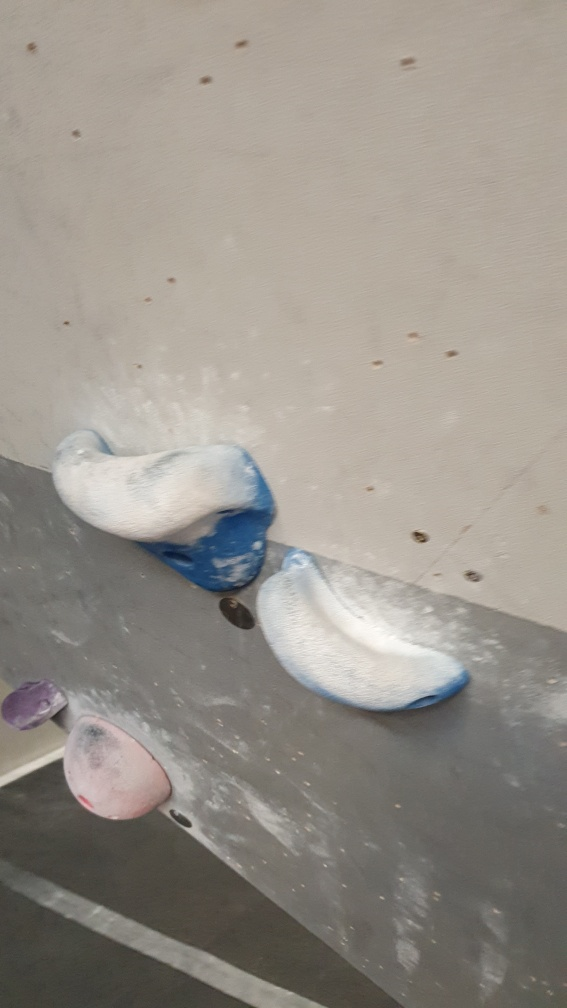Hand Start: (215, 591, 261, 631), (168, 805, 198, 832)
Jug: (51, 424, 275, 601), (253, 552, 468, 714)
Sloper: (65, 716, 175, 827)
